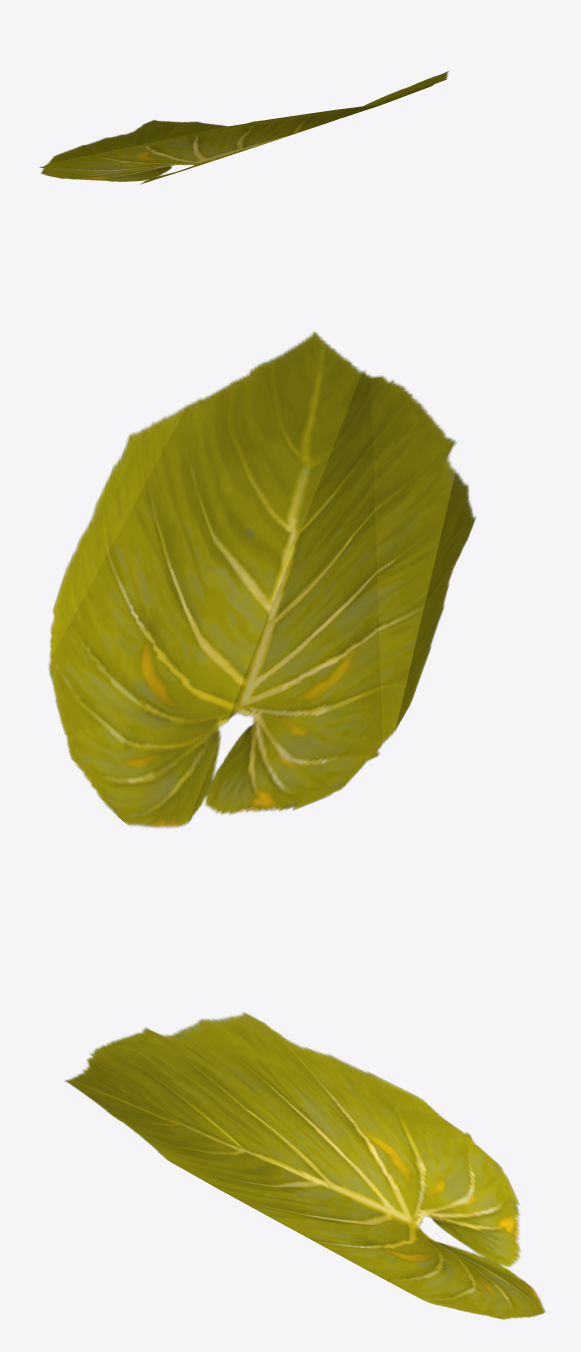
File: BSPlant_1_Leaf_1.gltf
The picture shows the model from 3 angles, top to bottom: view 1: azimuth 30°, elevation 25°; view 2: azimuth 150°, elevation 25°; view 3: azimuth 270°, elevation 25°; orthographic projection. The views are drawn at different scales.
Visible parts, largest first — view 1: BSPlant_1_Leaf_1; view 2: BSPlant_1_Leaf_1; view 3: BSPlant_1_Leaf_1.
Part boxes in pixels (bbox=[...]): BSPlant_1_Leaf_1: bbox=[39, 71, 448, 184]; BSPlant_1_Leaf_1: bbox=[48, 331, 475, 828]; BSPlant_1_Leaf_1: bbox=[64, 1012, 545, 1319].
Size of the model in its own units: 2.77 by 2.31 by 3.15.
Materials: 1 (1 with a texture image).
